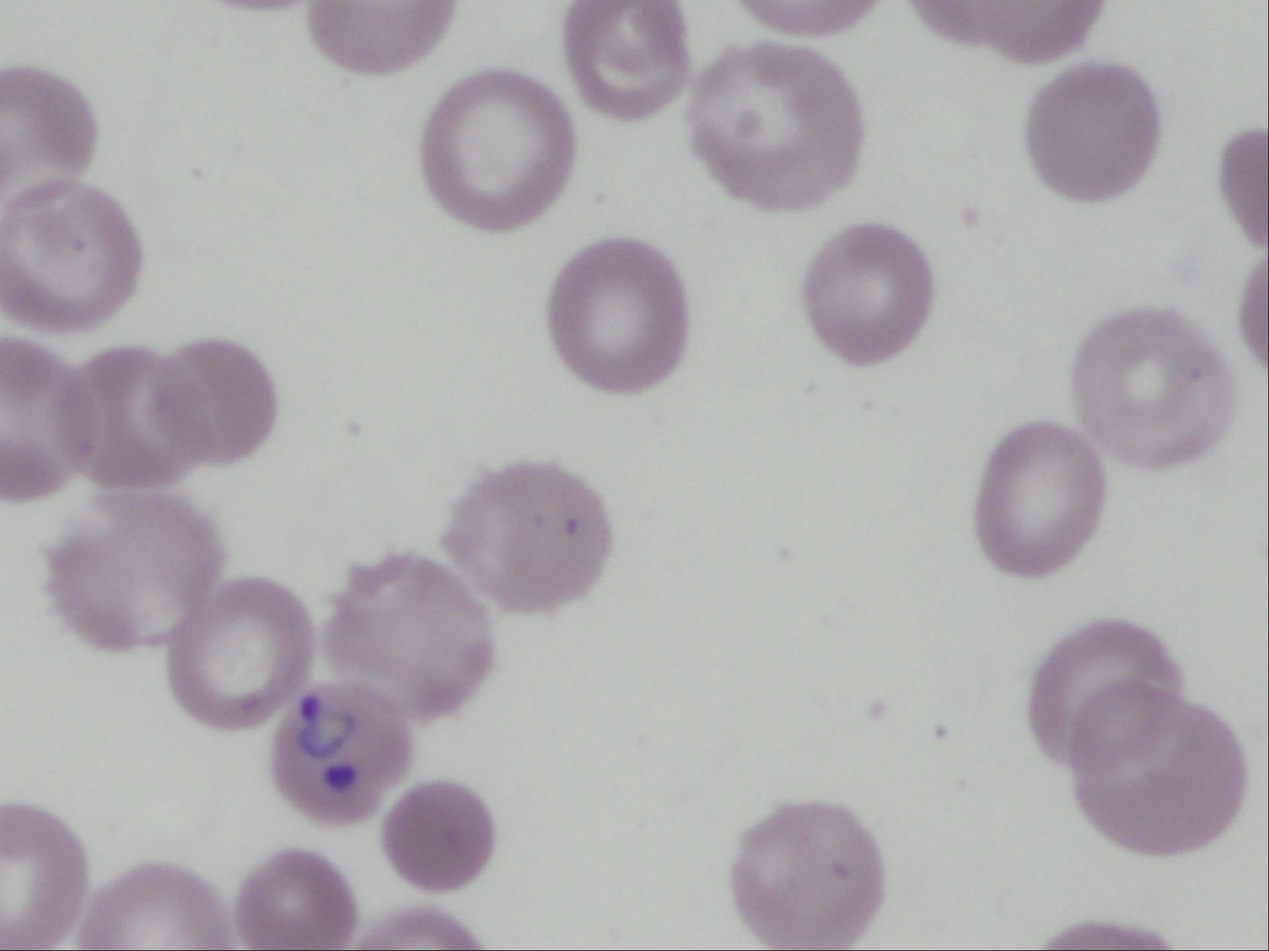Infected: (272, 683, 414, 823)
Uninfected: (690, 40, 864, 205), (323, 556, 492, 714), (48, 492, 220, 646), (1071, 700, 1240, 854), (1074, 309, 1234, 464), (445, 463, 609, 612), (422, 69, 577, 225), (732, 802, 884, 945), (553, 239, 692, 393), (1031, 621, 1179, 764), (1, 184, 141, 333), (167, 584, 309, 726), (976, 426, 1102, 572), (67, 347, 199, 485), (1026, 62, 1157, 200), (809, 225, 934, 364), (163, 339, 278, 464), (566, 0, 691, 114), (77, 863, 228, 947), (383, 781, 492, 890), (0, 67, 96, 190), (236, 851, 351, 949), (3, 807, 84, 944), (312, 1, 452, 72)
